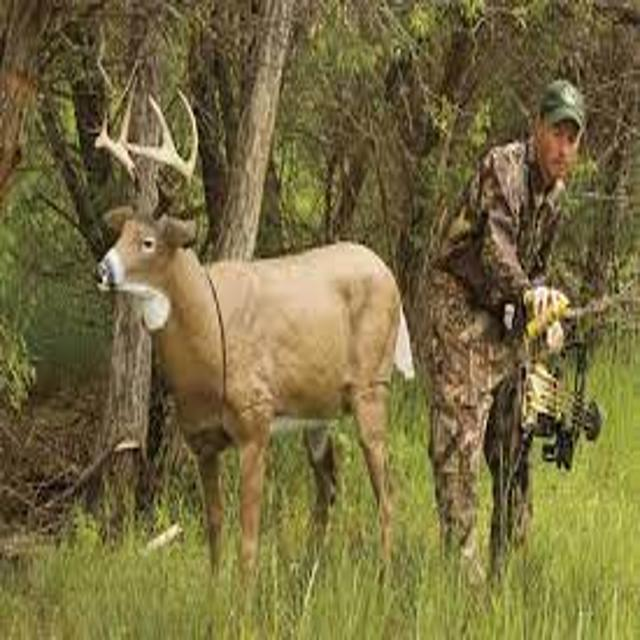deer: (68, 82, 431, 600)
poacher: (388, 60, 634, 607)
